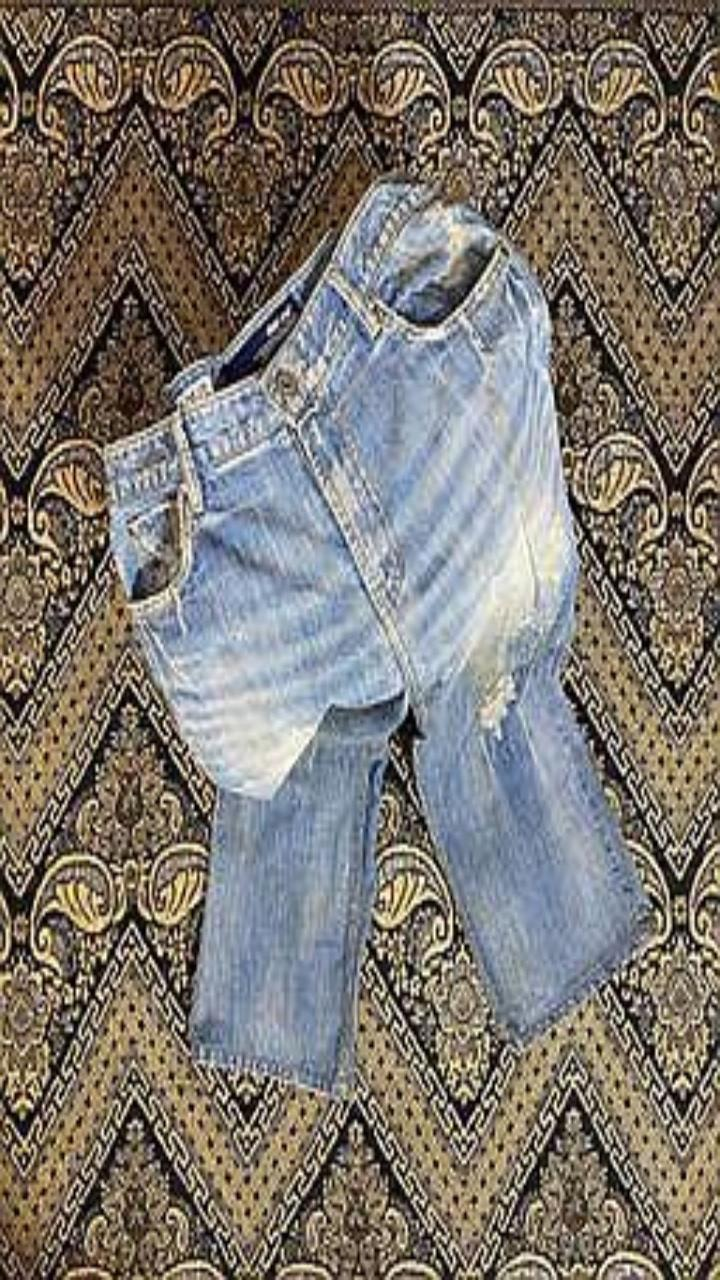Shorts: (105, 175, 649, 1095)
